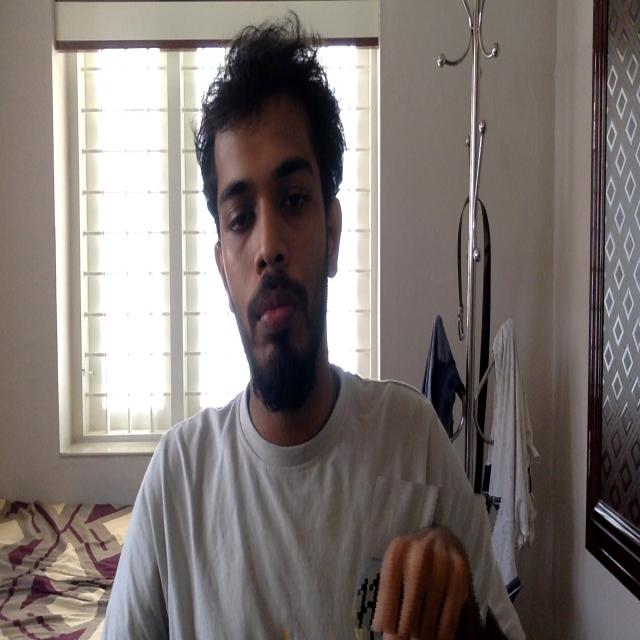Yes: (356, 481, 501, 640)
